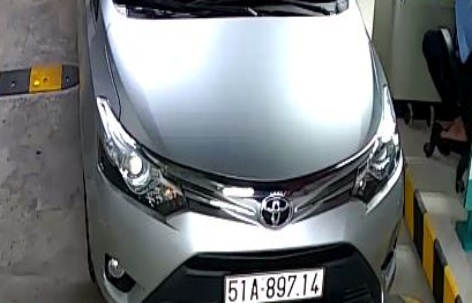plate: (219, 266, 333, 303)
